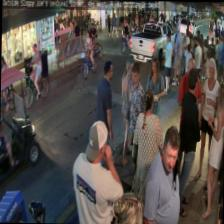person: (70, 118, 123, 223), (174, 67, 200, 216), (201, 81, 224, 216)
